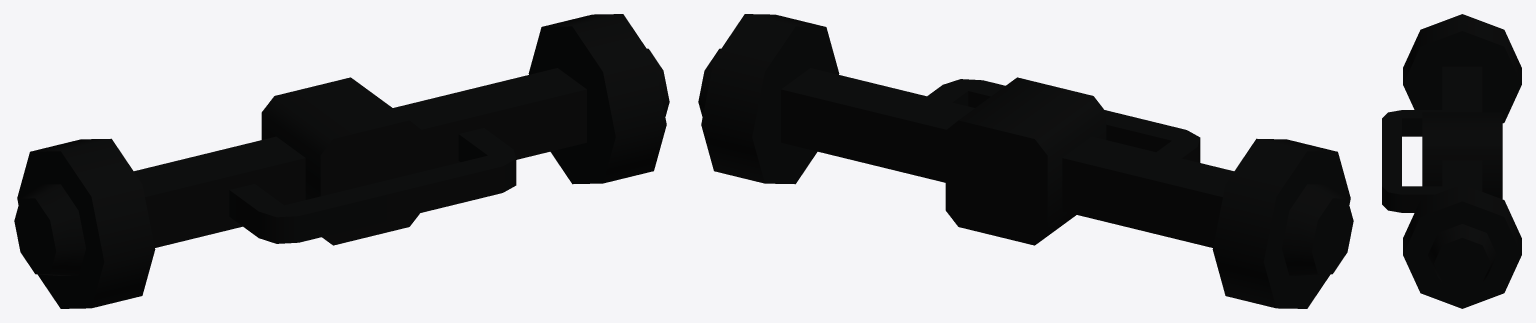
Rendered from debris-drivetrain-axle.glb.
The picture shows the model from 3 angles, left to right: view 1: azimuth 30°, elevation 25°; view 2: azimuth 150°, elevation 25°; view 3: azimuth 270°, elevation 25°; orthographic projection. The views are drawn at different scales.
Visible parts, largest first — view 1: debris-drivetrain-axle; view 2: debris-drivetrain-axle; view 3: debris-drivetrain-axle.
Boxes of the visible parts, x1,y1,x2,y2 form: debris-drivetrain-axle: (14, 14, 669, 308); debris-drivetrain-axle: (698, 14, 1353, 308); debris-drivetrain-axle: (1382, 14, 1521, 308).
Bounding box in the file's own units: 1.2 × 0.2959 × 0.3483.
1 material, 1 textured.
